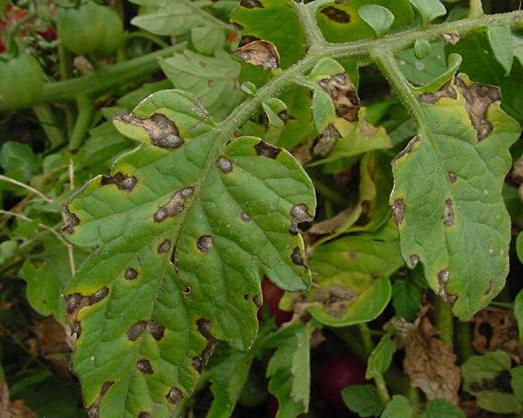Tomato Septoria leaf spot: (48, 74, 316, 414), (383, 53, 520, 327)
